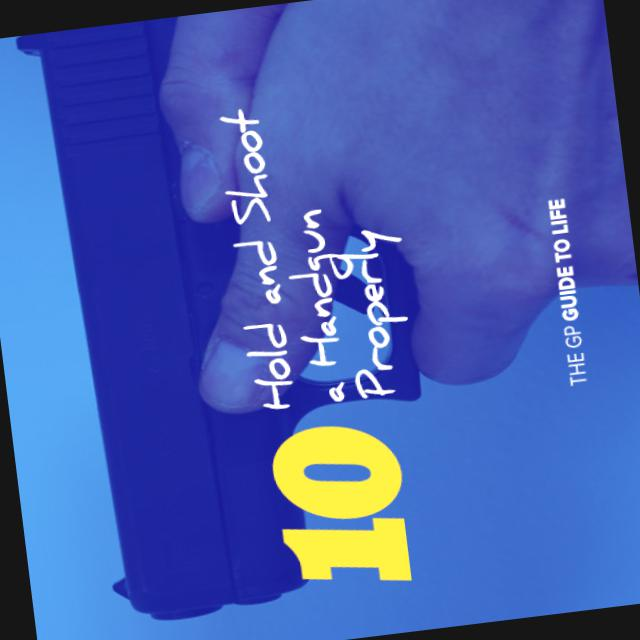handgun: (20, 0, 541, 634)
